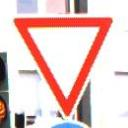preferencia: (11, 12, 117, 117)
